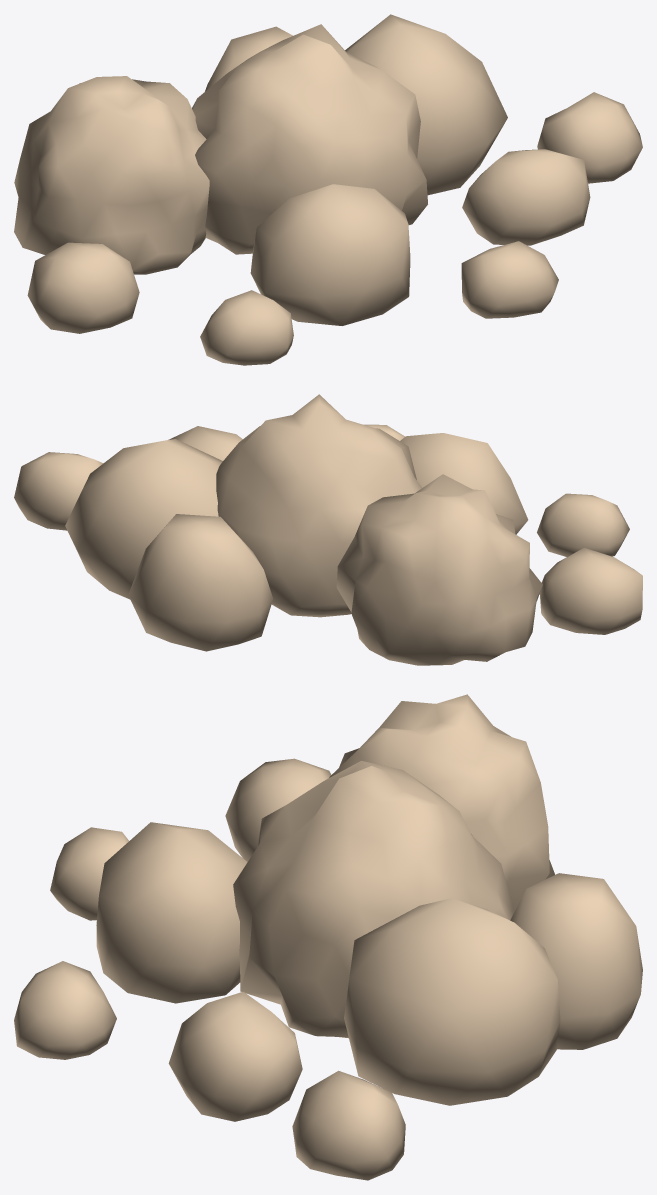
The model's file is rocks-cluster.glb.
3 renders of one model, top to bottom at view 1: azimuth 30°, elevation 25°; view 2: azimuth 150°, elevation 25°; view 3: azimuth 270°, elevation 25°, orthographic. The views are drawn at different scales.
Visible parts, largest first — view 1: body; view 2: body; view 3: body.
Part boxes in pixels (x1,y1,x2,y2): body: [14, 14, 642, 365]; body: [14, 394, 642, 665]; body: [14, 694, 642, 1180].
Bounding box in the file's own units: 1.69 × 0.5 × 1.22.
